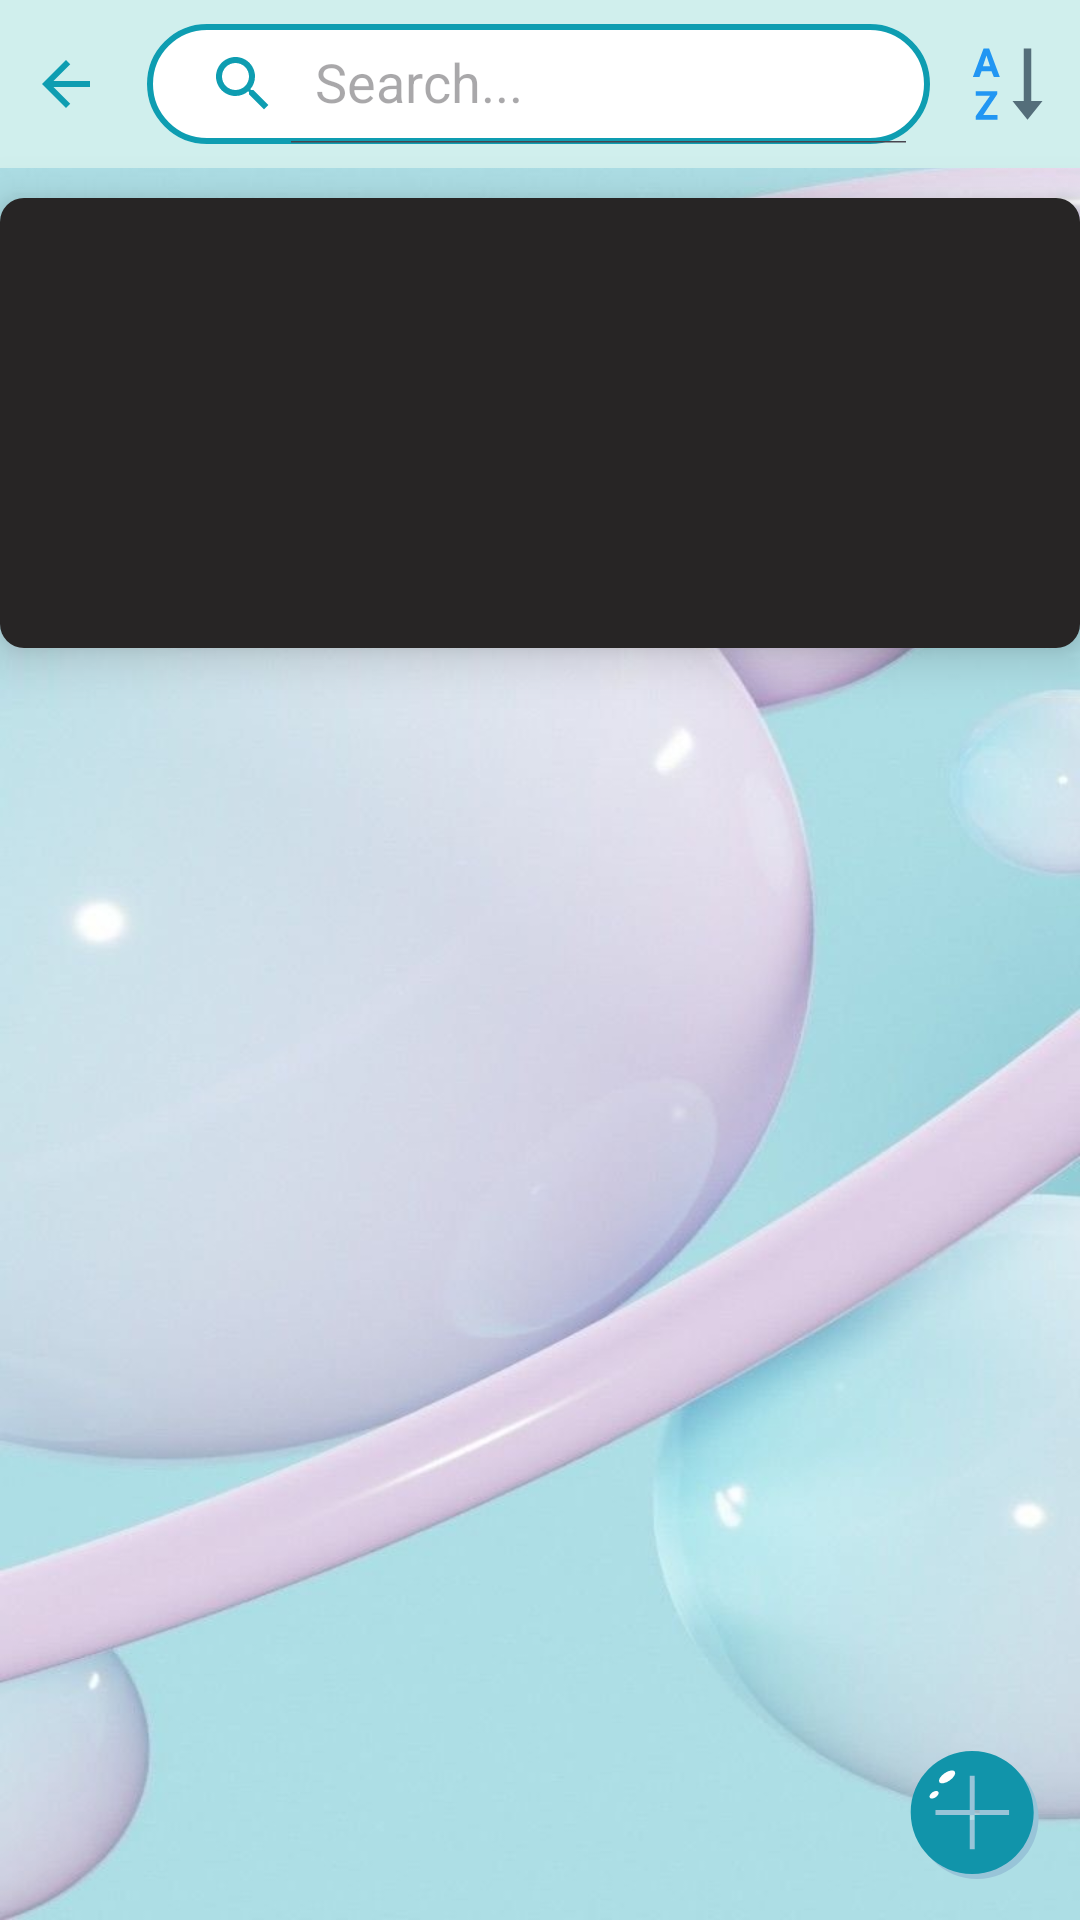

Icon click points for this 1080 × 1920 phone screenshot, format (x,y):
add to: (975,1809)
alphabetical sorting az: (1007,84)
arrow back: (66,84)
